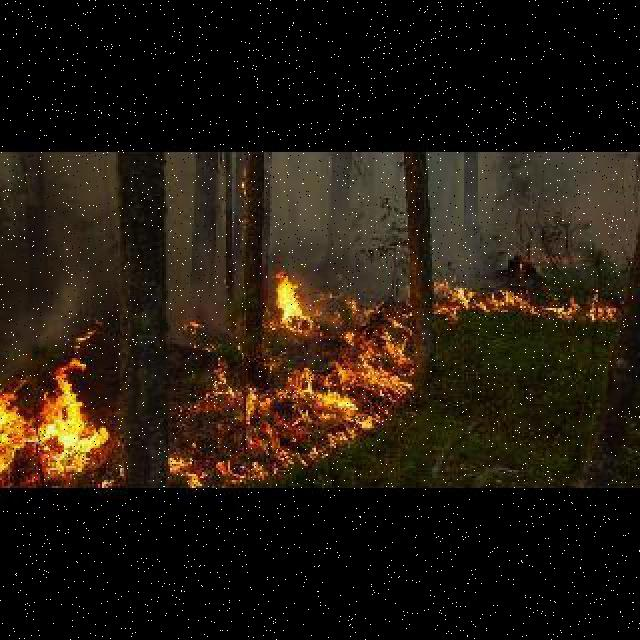fire: (195, 366, 372, 479), (5, 362, 120, 488), (437, 273, 627, 324), (272, 274, 339, 342)
smoke: (13, 164, 242, 333), (323, 158, 640, 264)
